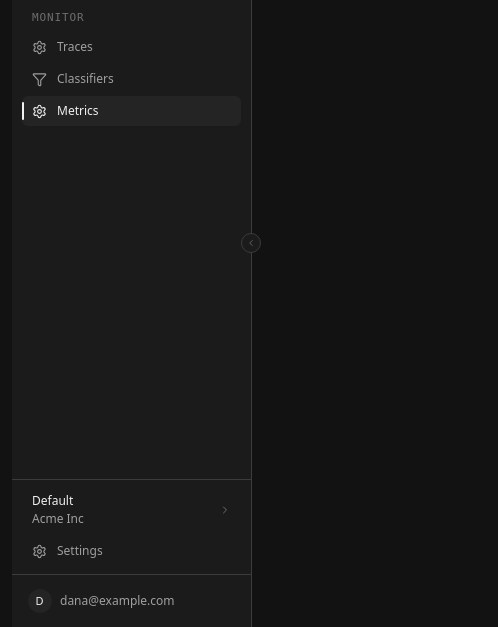
the project switcher › goes to another project's Triage, but only closes on the current one
Click the button "Default Acme Inc".
click(132, 510)  # box 22,486 -> 241,534
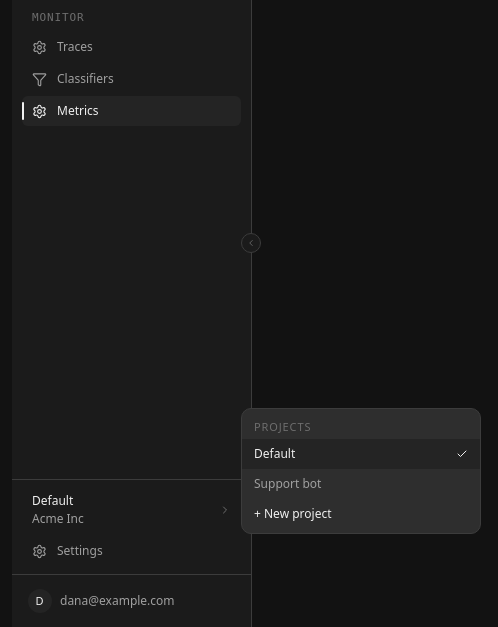
Click the button "Default".
click(361, 454)  # box 242,439 -> 480,469
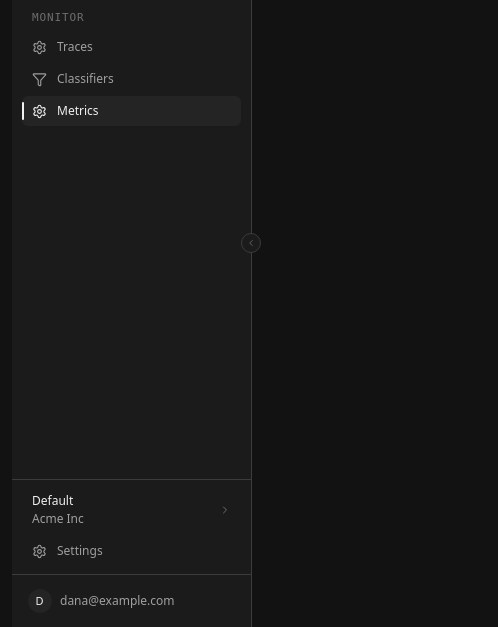
expect the text "Projects" is not shown: met
Focus the button "Default Acme Inc" at (132, 510), box 22,486 -> 241,534
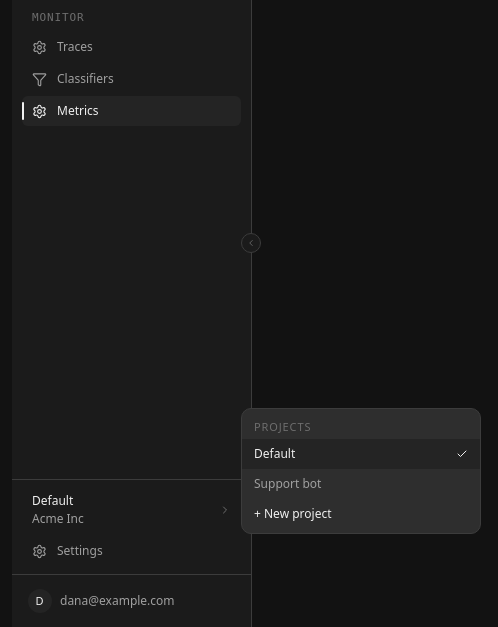
Click the button "Support bot".
click(361, 484)  # box 242,469 -> 480,499
(page scrolled)
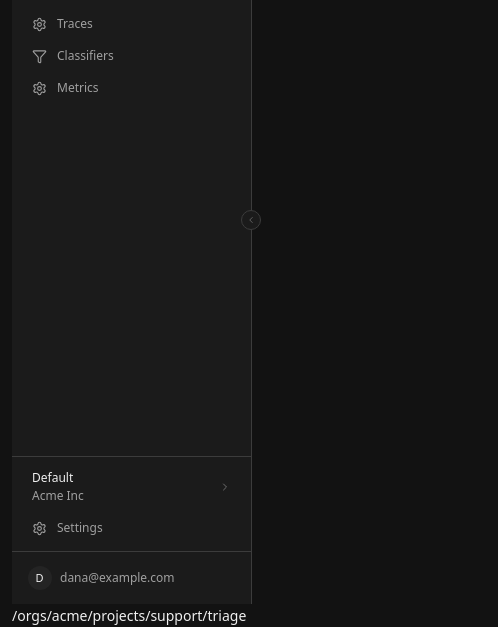
expect the text named "location" reads "/orgs/acme/projects/support/triage": met, box 12,606 -> 246,625
